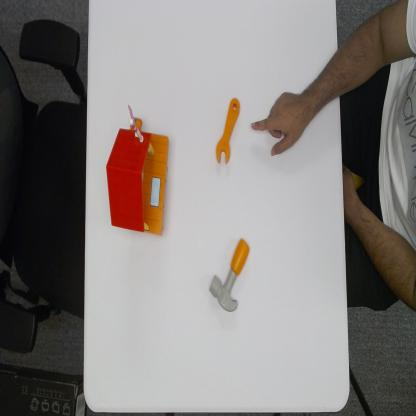Arm: (306, 47, 336, 124)
Hammer: (208, 236, 250, 314)
Hand: (250, 88, 304, 163)
House: (105, 102, 170, 240)
Screwdriver: (214, 95, 241, 166)
